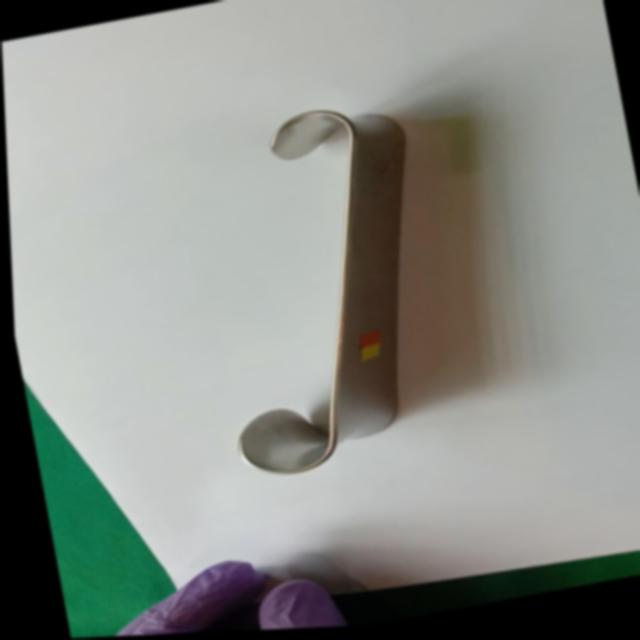CheekRetractor: (165, 95, 464, 494)
